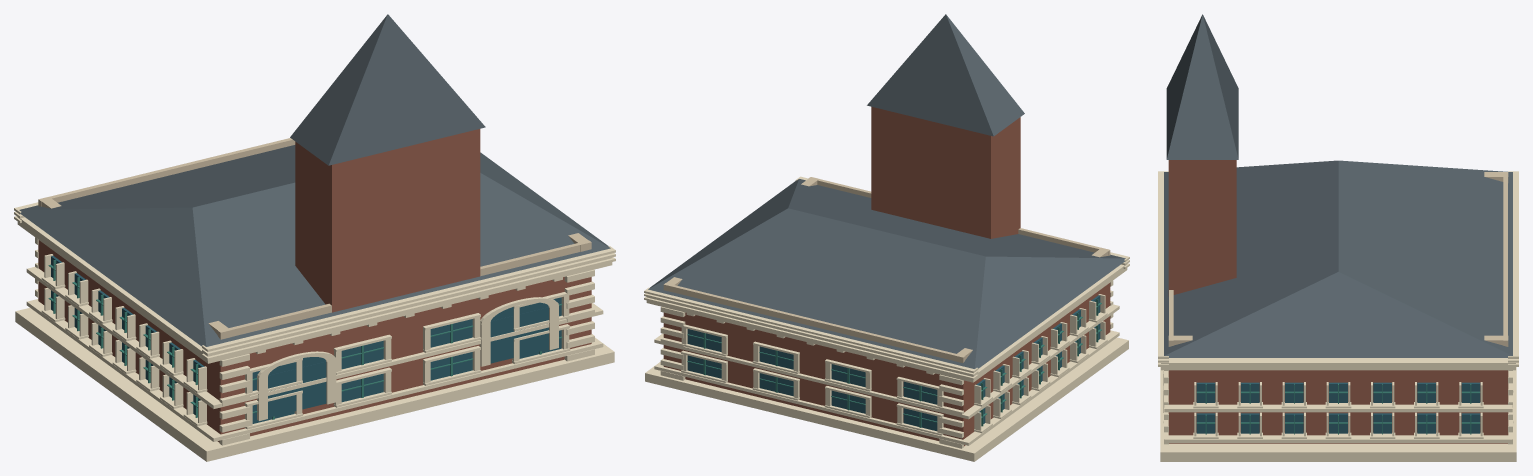
Rendered from union-church.glb.
The picture shows the model from 3 angles, left to right: view 1: azimuth 30°, elevation 25°; view 2: azimuth 150°, elevation 25°; view 3: azimuth 270°, elevation 25°; orthographic projection. The views are drawn at different scales.
Parts seen in each view (by area): view 1: union-church; view 2: union-church; view 3: union-church.
Part boxes in pixels (x1,y1,x2,y2): union-church: [14, 14, 615, 461]; union-church: [644, 14, 1129, 461]; union-church: [1158, 14, 1518, 461].
Bounding box in the file's own units: 22.83 × 20.4 × 18.77.
